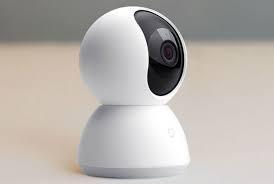maru: (77, 0, 193, 111)
